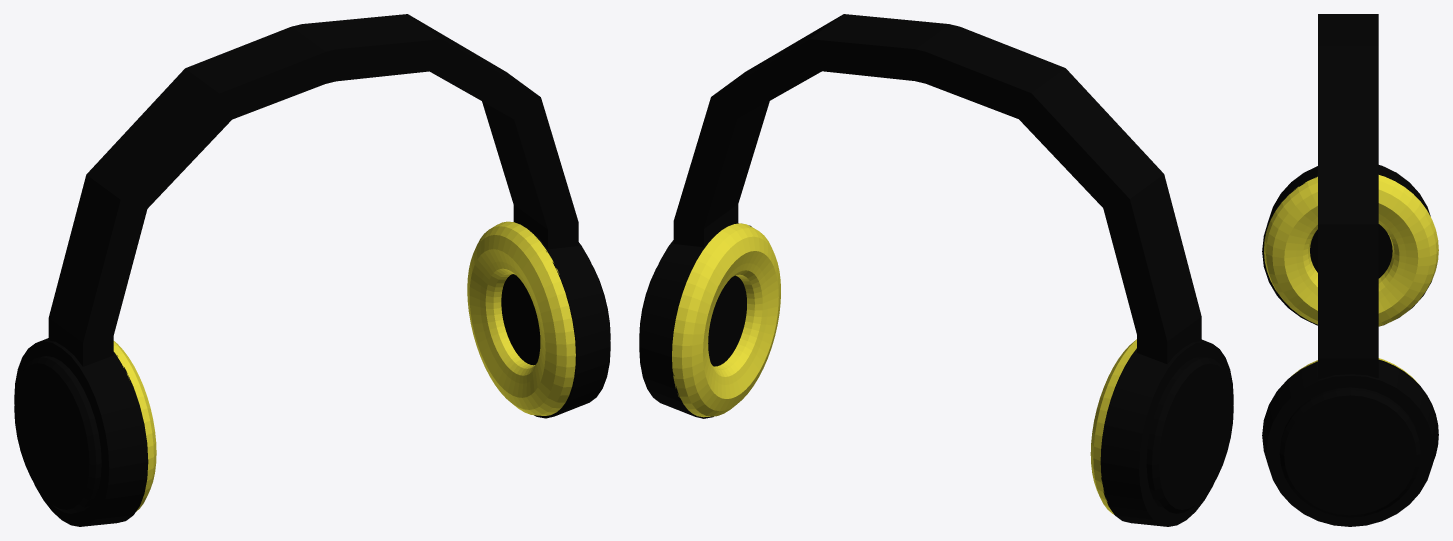
Rendered from Headphones.fbx.
The picture shows the model from 3 angles, left to right: view 1: azimuth 30°, elevation 25°; view 2: azimuth 150°, elevation 25°; view 3: azimuth 270°, elevation 25°; orthographic projection. The views are drawn at different scales.
Visible parts, largest first — view 1: Cube; view 2: Cube; view 3: Cube.
Part boxes in pixels (<box>): Cube: <box>14,14,610,526</box>; Cube: <box>639,14,1233,526</box>; Cube: <box>1262,14,1438,526</box>.
Size of the model in its own units: 605 by 473 by 202.
